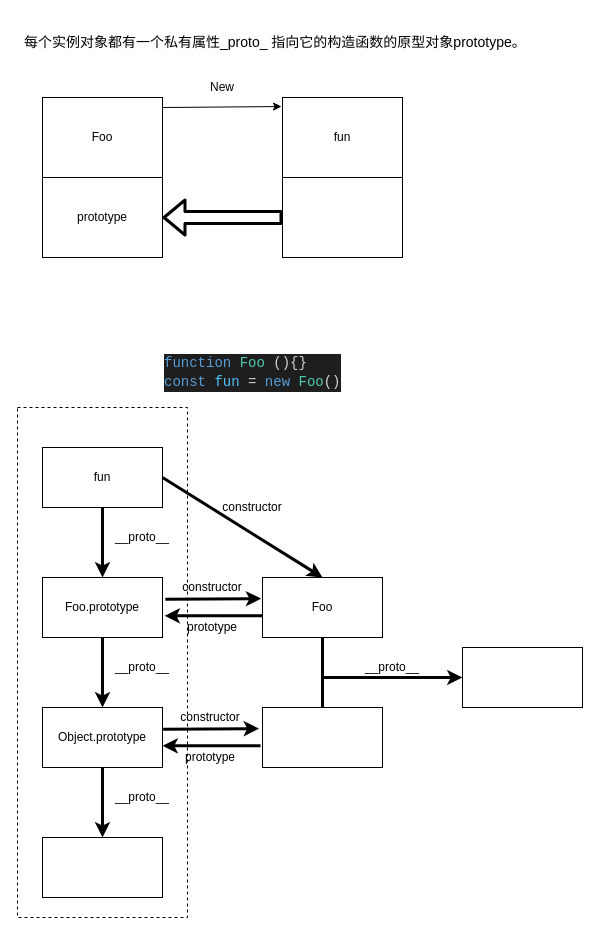
Image size: 600x935. Some labels were removed from this diagram. The centre of each missing label's shape, as x and y in pixels:
_proto_: the point at 342,217
Function.prototype: the point at 522,677
null: the point at 102,867
Object: the point at 322,737
